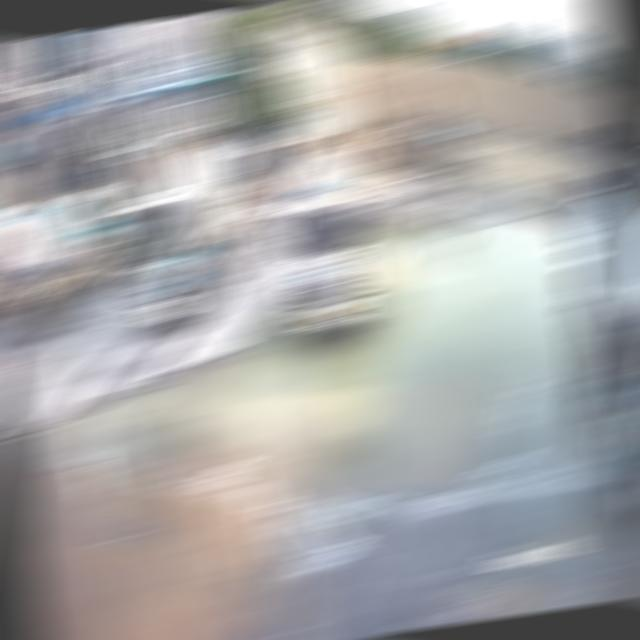cement_mixer_truck: (534, 178, 640, 523), (112, 137, 254, 321), (263, 150, 382, 338), (0, 188, 123, 334), (0, 274, 20, 316), (0, 212, 23, 228)
